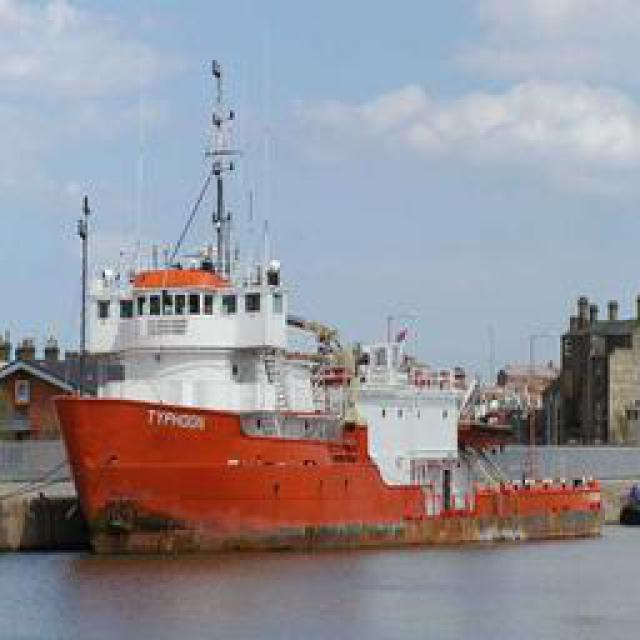Ship: (51, 47, 549, 547)
